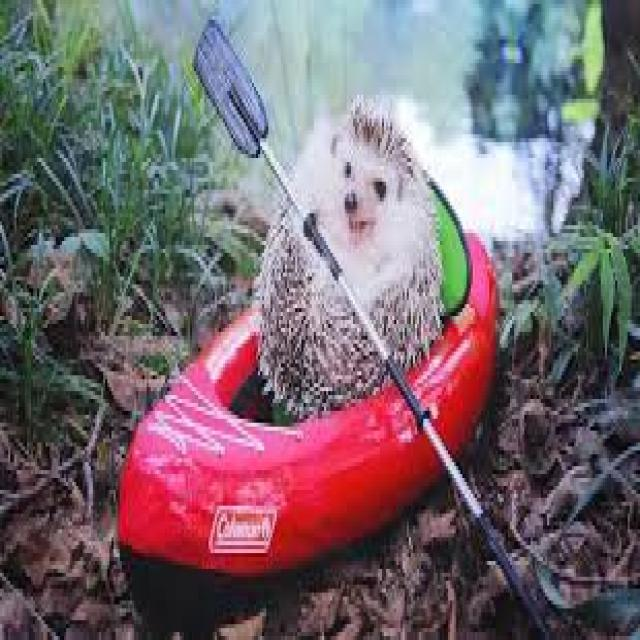Hedgehog: (255, 85, 453, 412)
